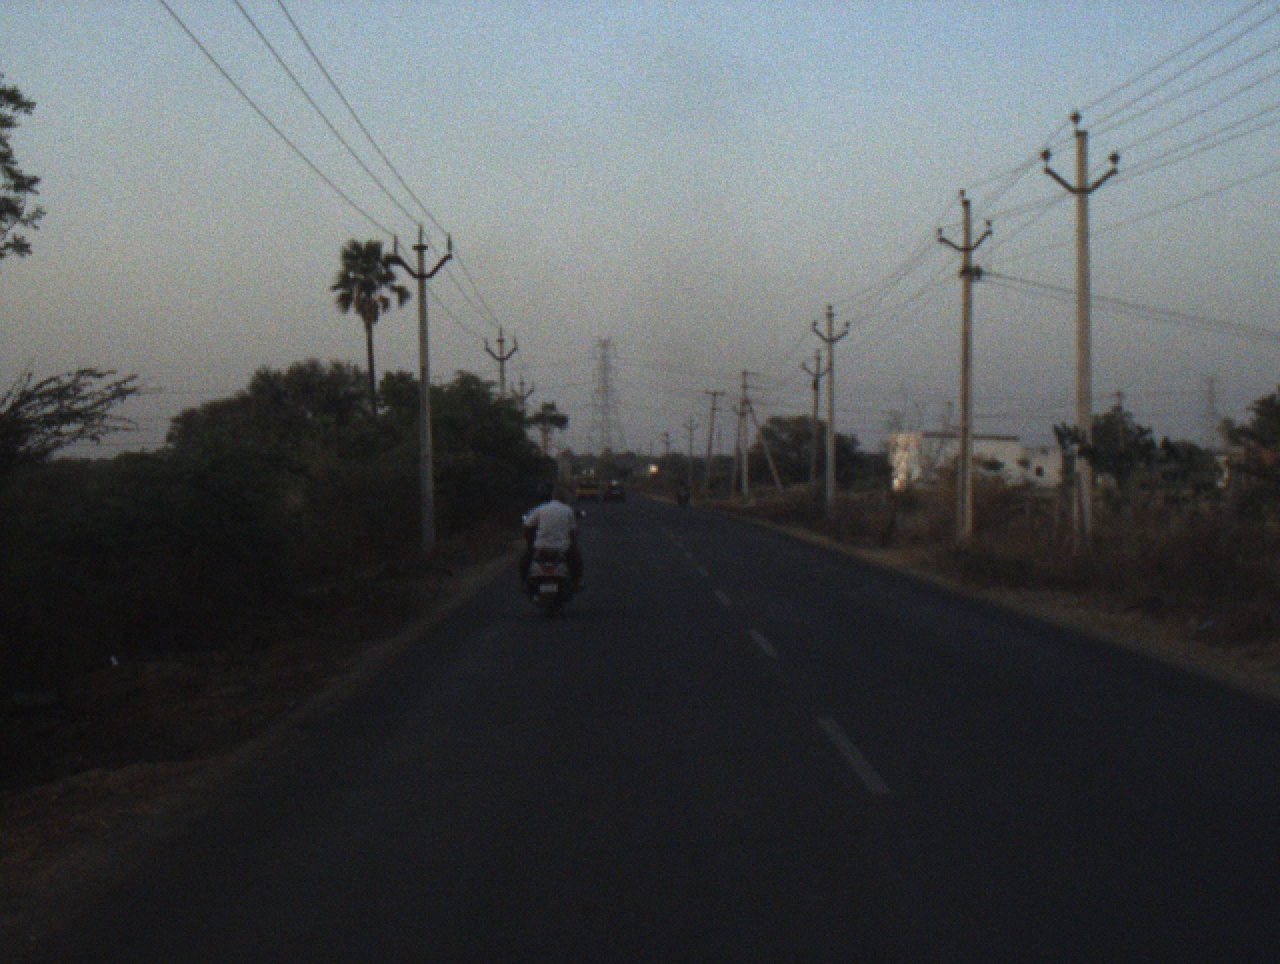autorickshaw: (571, 471, 601, 504)
car: (604, 476, 626, 502)
motorcycle: (517, 506, 594, 619), (676, 491, 691, 507)
rider: (517, 487, 588, 604), (527, 479, 557, 510), (676, 479, 691, 501)
